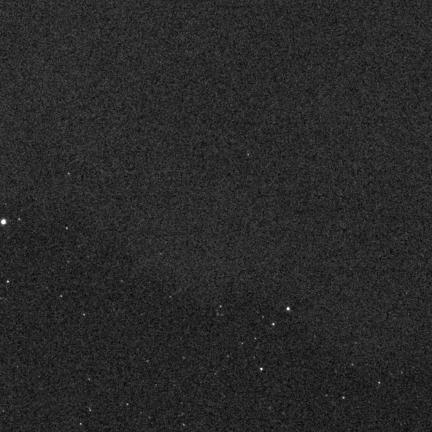blob: (0, 219, 8, 226), (287, 307, 290, 310)
